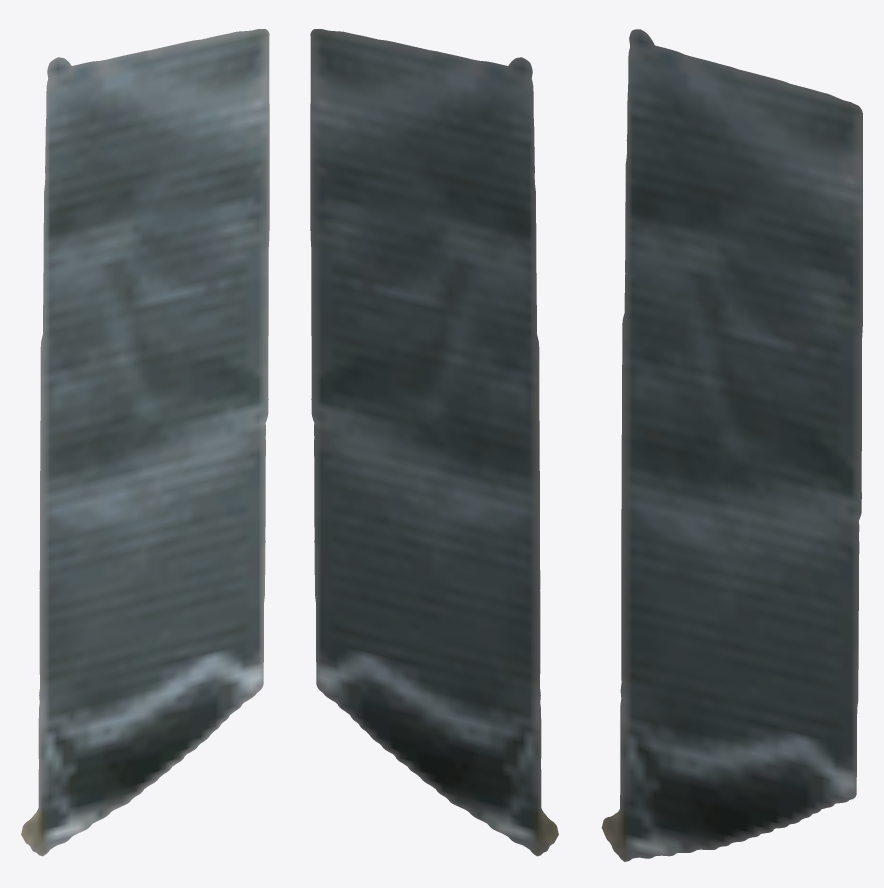
The model's file is SM_Sign_Tape_02.glb.
3 renders of one model, left to right at view 1: azimuth 30°, elevation 25°; view 2: azimuth 150°, elevation 25°; view 3: azimuth 330°, elevation 25°, orthographic. The views are drawn at different scales.
Parts seen in each view (by area): view 1: SM_Sign_Tape_02; view 2: SM_Sign_Tape_02; view 3: SM_Sign_Tape_02.
Part boxes in pixels (x1=…): SM_Sign_Tape_02: x1=21, y1=29, x2=269, y2=856; SM_Sign_Tape_02: x1=310, y1=29, x2=558, y2=856; SM_Sign_Tape_02: x1=601, y1=29, x2=862, y2=861.
Bounding box in the file's own units: 0.0817 × 0.2434 × 3.91e-08.
1 material, 1 textured.
